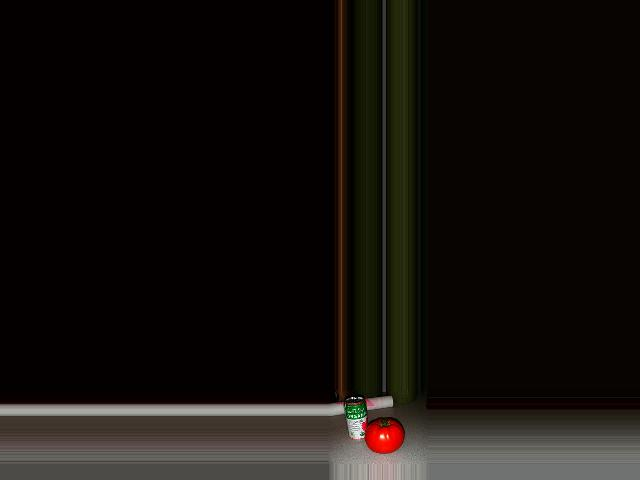tomato: (365, 419, 404, 453)
